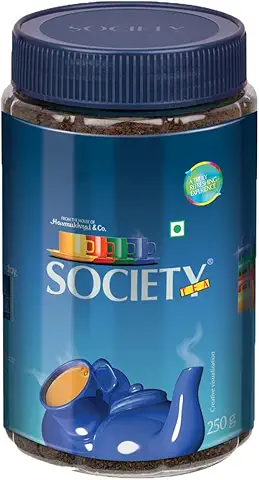Tea: (2, 4, 259, 480)
